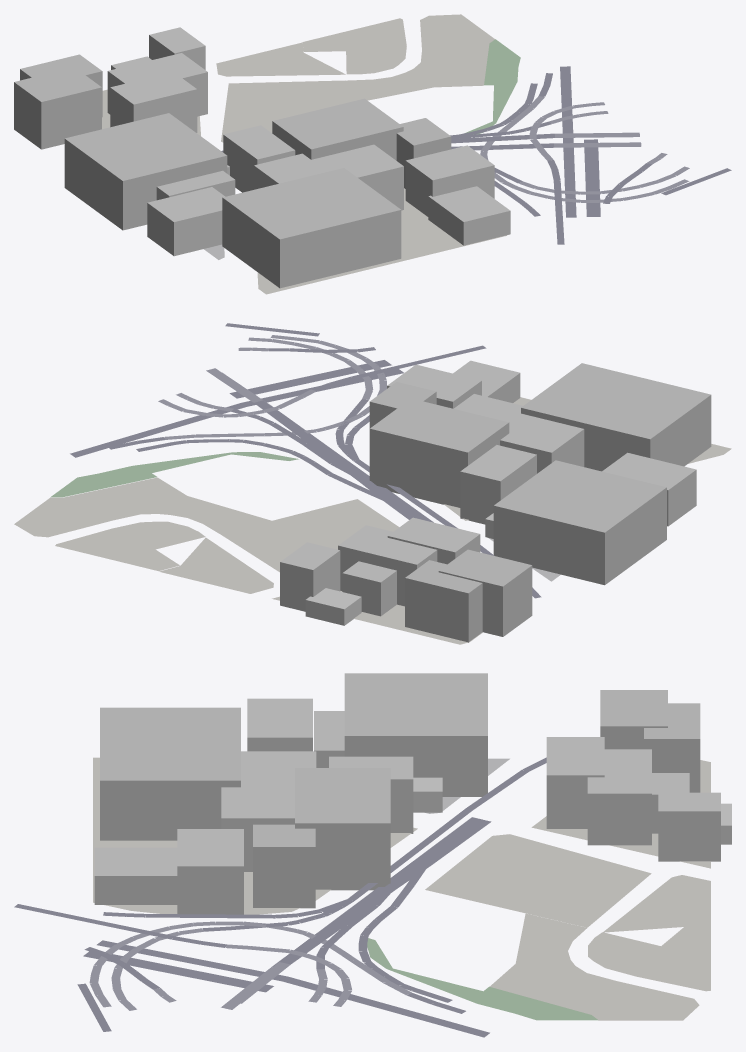
The model's file is 106_94_mid.glb.
3 renders of one model, top to bottom at view 1: azimuth 30°, elevation 25°; view 2: azimuth 150°, elevation 25°; view 3: azimuth 270°, elevation 25°, orthographic. The views are drawn at different scales.
Size of the model in its own units: 588 by 61.34 by 581.
